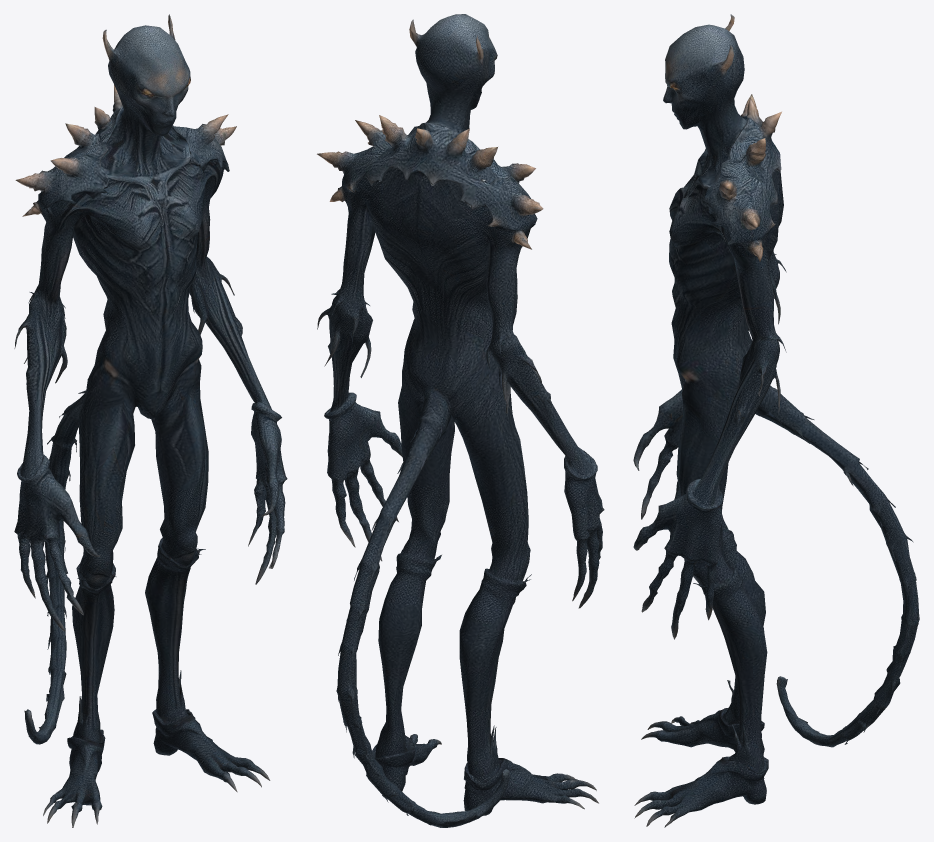
The model's file is enm_subject_zero.glb.
3 renders of one model, left to right at view 1: azimuth 30°, elevation 25°; view 2: azimuth 150°, elevation 25°; view 3: azimuth 270°, elevation 25°, orthographic. The views are drawn at different scales.
Bounding box in the file's own units: 0.3428 × 0.9512 × 0.3267.
1 material, 1 textured.
